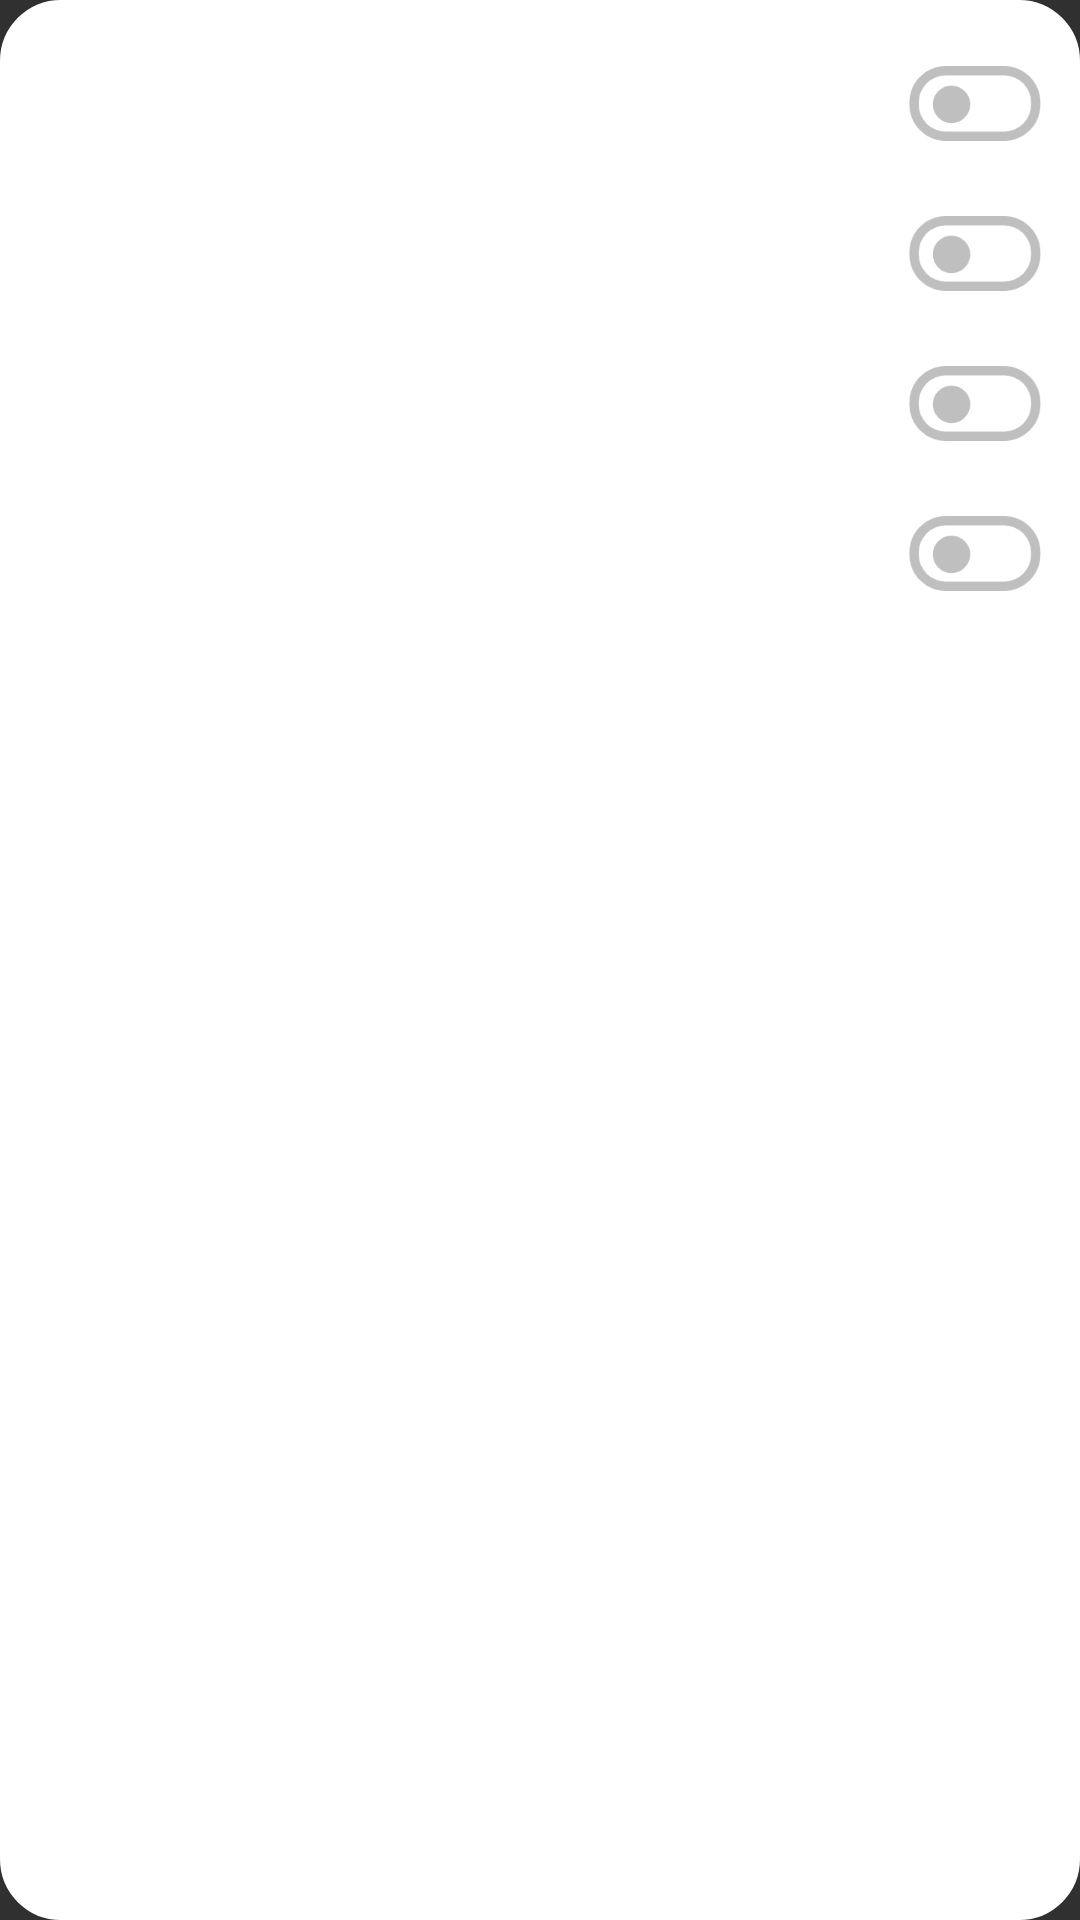

Where to tap for icons on this 1080px x 1920px app screen, as [x,y]:
on off select: [974,103], [974,253], [974,403], [974,553]
